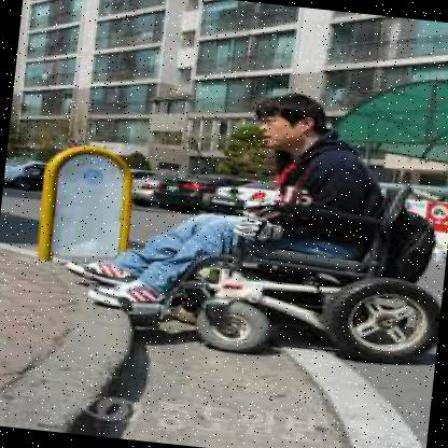wheel: (61, 72, 447, 374)
